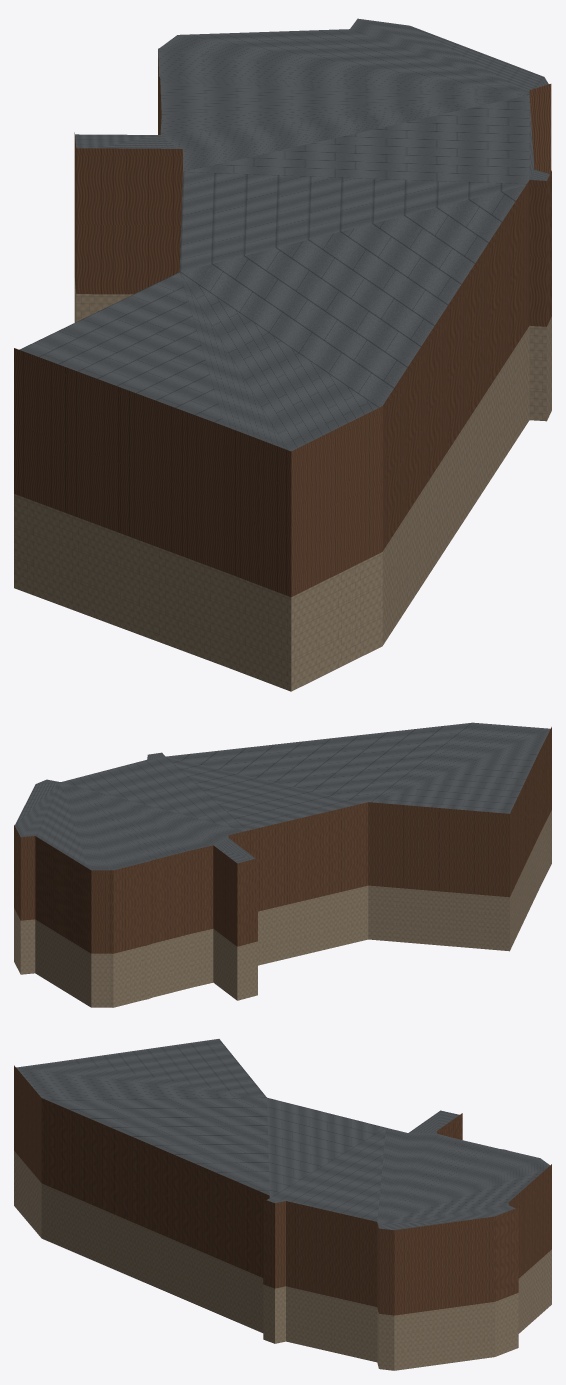
File: core_0133.gltf
3 renders of one model, top to bottom at view 1: azimuth 30°, elevation 25°; view 2: azimuth 150°, elevation 25°; view 3: azimuth 270°, elevation 25°, orthographic. The views are drawn at different scales.
Visible parts, largest first — view 1: core_0133; view 2: core_0133; view 3: core_0133.
Boxes of the visible parts, bbox=[...] form: core_0133: bbox=[14, 18, 551, 691]; core_0133: bbox=[14, 722, 551, 1007]; core_0133: bbox=[14, 1039, 551, 1370].
Bounding box in the file's own units: 38.44 × 12.98 × 45.02.
3 materials, 3 textured.
